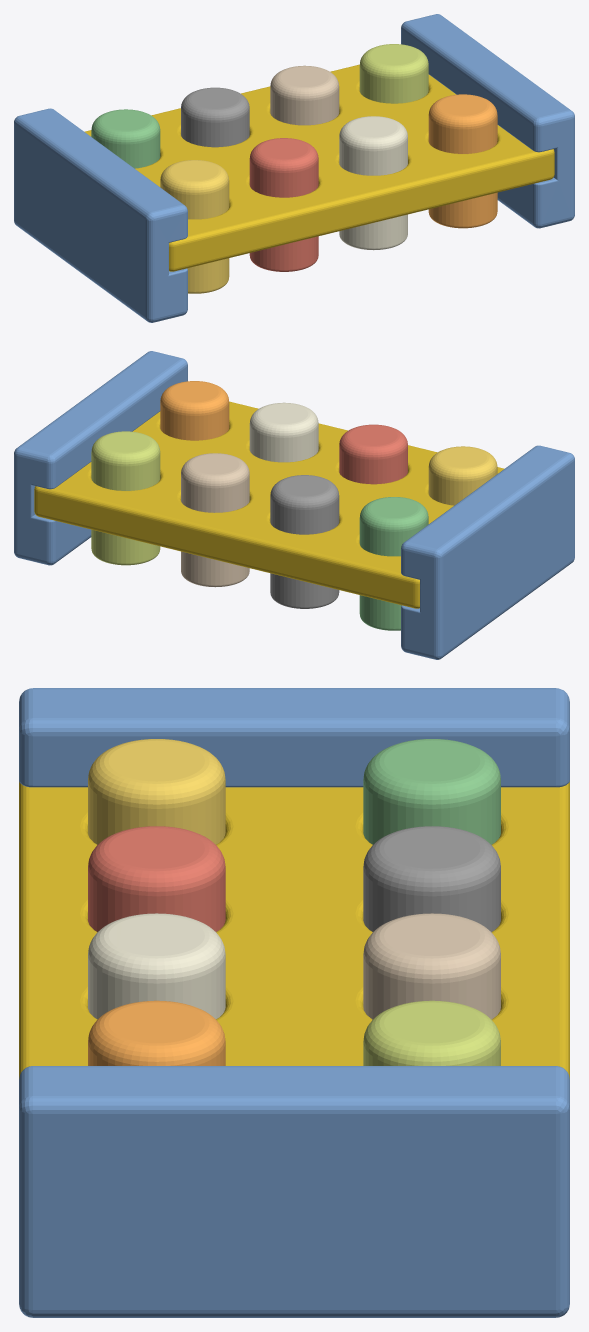
The model's file is pato.fbx.
3 views of the same model, one above another, from view 1: azimuth 30°, elevation 25°; view 2: azimuth 150°, elevation 25°; view 3: azimuth 270°, elevation 25° (orthographic). The views are drawn at different scales.
Parts seen in each view (by area): view 1: Body12.002; view 2: Body12.002; view 3: Body12.002.
Part boxes in pixels (<box>): Body12.002: <box>14,14,574,322</box>; Body12.002: <box>14,351,574,659</box>; Body12.002: <box>19,688,569,1317</box>.
Bounding box in the file's own units: 253 × 62.34 × 141.
